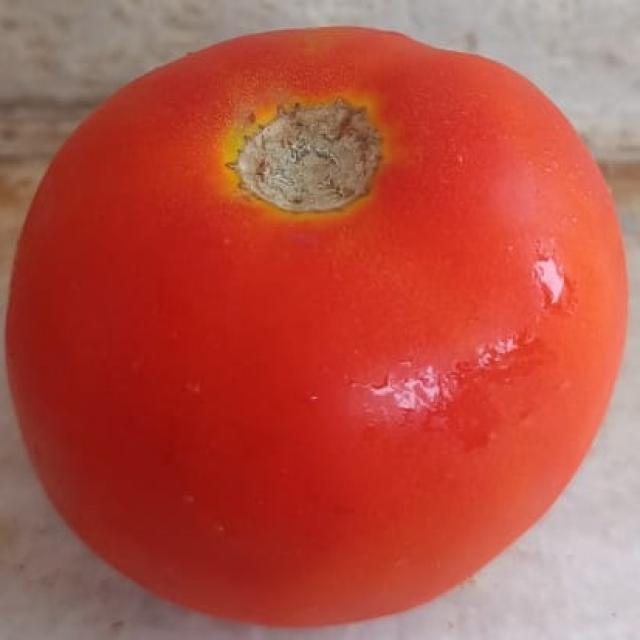ripe tomato: (13, 7, 631, 620)
